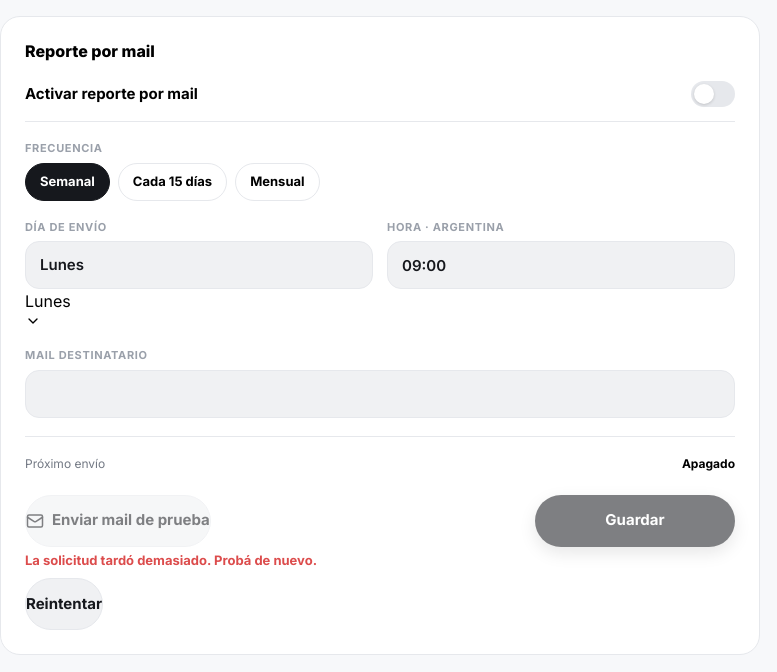
recovers from a load timeout with an enabled retry and enables the form after reloading
Expected: the message shows "La solicitud tardó demasiado", [25,552,317,568]
Expected: the button "Enviar mail de prueba" is disabled, [25,494,211,546]
Click the button "Reintentar".
click(64, 604)  # box [25,578,103,630]
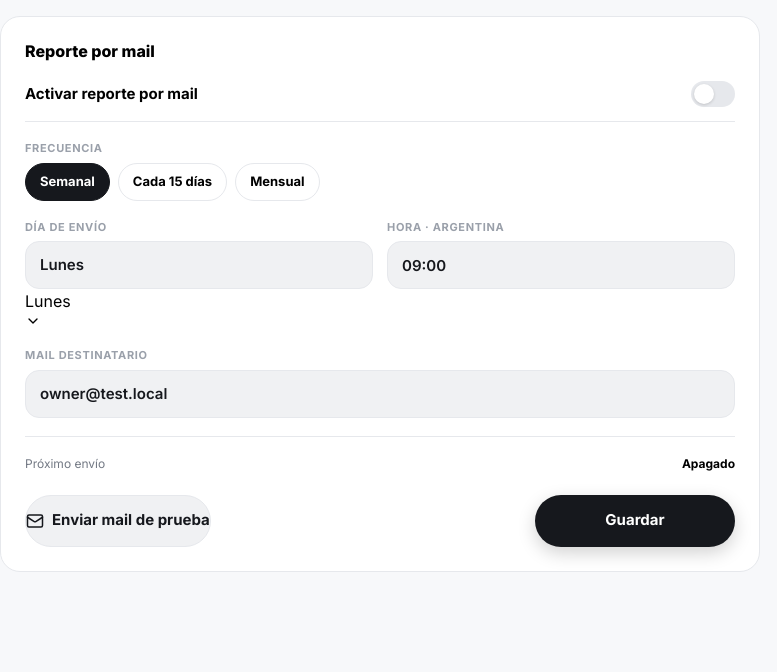
Now the button "Enviar mail de prueba" is enabled
Now the message "La solicitud tardó demasiado. Probá de nuevo." is gone
Now the field labelled "Mail destinatario" holds "owner@test.local", box [25,370,735,418]
Click the button "Enviar mail de prueba".
click(118, 520)  # box [25,494,211,546]
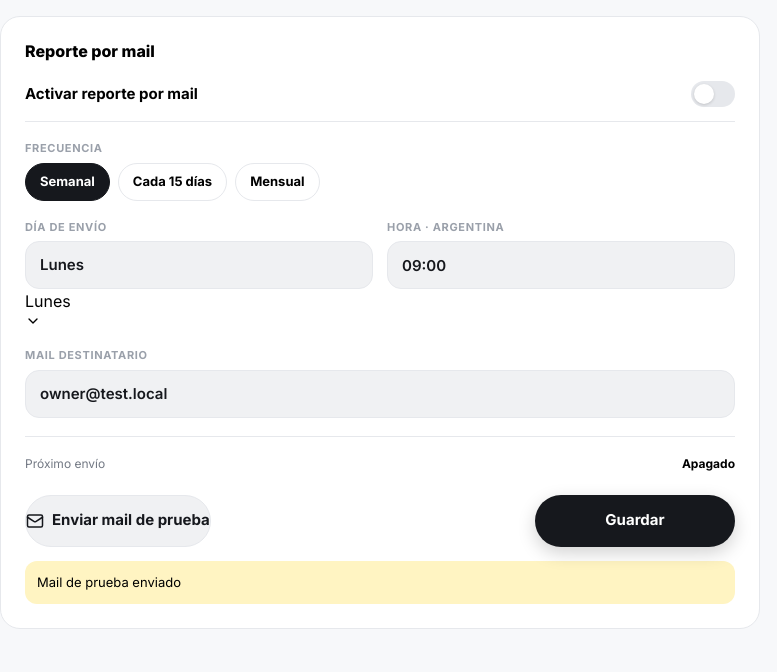
Now the message reads "Mail de prueba enviado", box [37,574,181,590]
